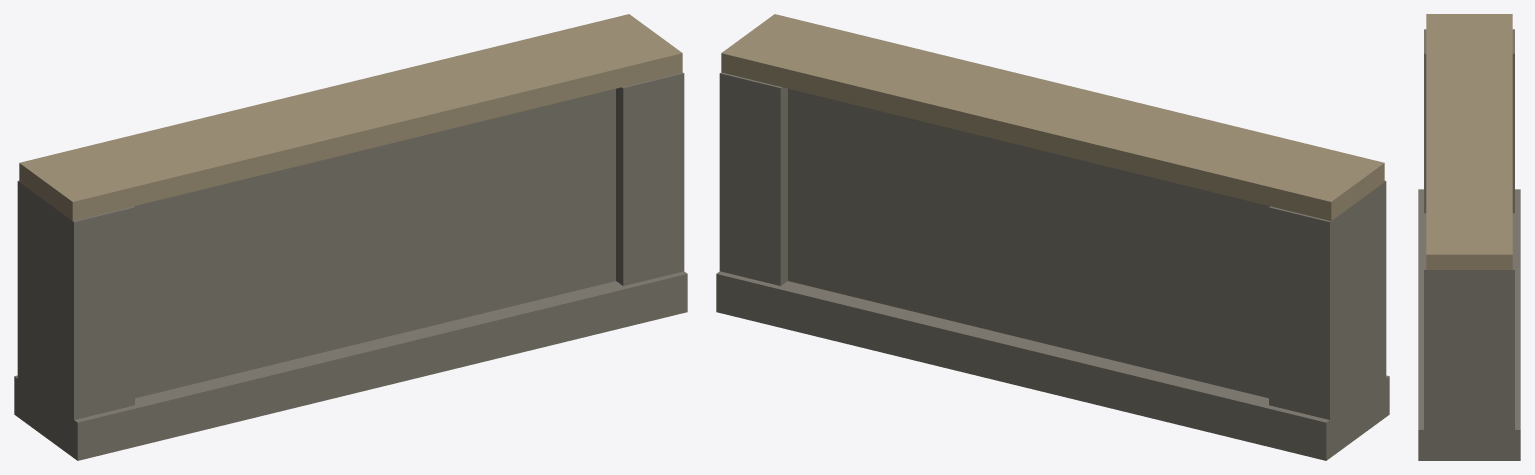
The model's file is RF_Prop_Wall_Intact.glb.
The picture shows the model from 3 angles, left to right: view 1: azimuth 30°, elevation 25°; view 2: azimuth 150°, elevation 25°; view 3: azimuth 270°, elevation 25°; orthographic projection. The views are drawn at different scales.
Parts seen in each view (by area): view 1: RF_Prop_Wall_Intact; view 2: RF_Prop_Wall_Intact; view 3: RF_Prop_Wall_Intact.
Part boxes in pixels (x1,y1,x2,y2): RF_Prop_Wall_Intact: (14,14,687,460); RF_Prop_Wall_Intact: (716,14,1389,460); RF_Prop_Wall_Intact: (1418,14,1520,460).
Size of the model in its own units: 5 by 2 by 0.9.
